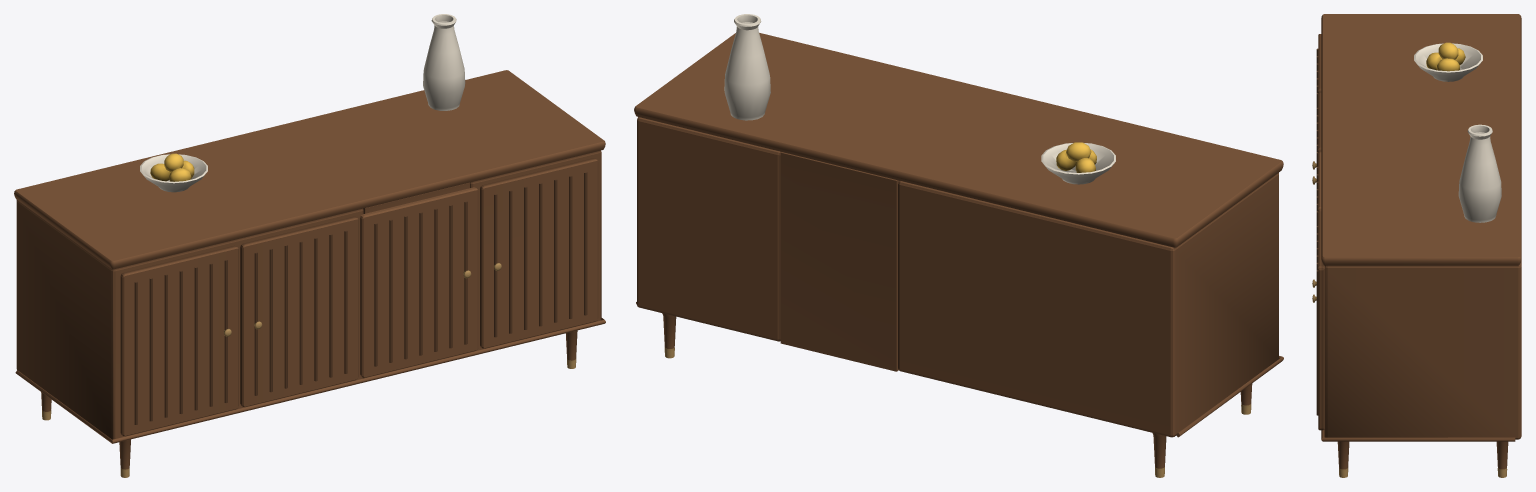
The model's file is sideboard.glb.
3 renders of one model, left to right at view 1: azimuth 30°, elevation 25°; view 2: azimuth 150°, elevation 25°; view 3: azimuth 270°, elevation 25°, orthographic. The views are drawn at different scales.
Parts seen in each view (by area): view 1: body, door2, door3, door0, door1; view 2: body; view 3: body, door0, door1, door2, door3.
Boxes of the visible parts, x1,y1,x2,y2 form: body: [14, 14, 605, 477]; door2: [240, 216, 358, 407]; door3: [120, 245, 238, 436]; door0: [480, 158, 598, 348]; door1: [360, 187, 478, 377]; body: [634, 14, 1283, 477]; body: [1321, 14, 1521, 477]; door0: [1312, 211, 1324, 430]; door1: [1312, 152, 1321, 287]; door2: [1312, 93, 1321, 184]; door3: [1312, 34, 1321, 169].
Bounding box in the file's own units: 1.82 × 1.1 × 0.658.
